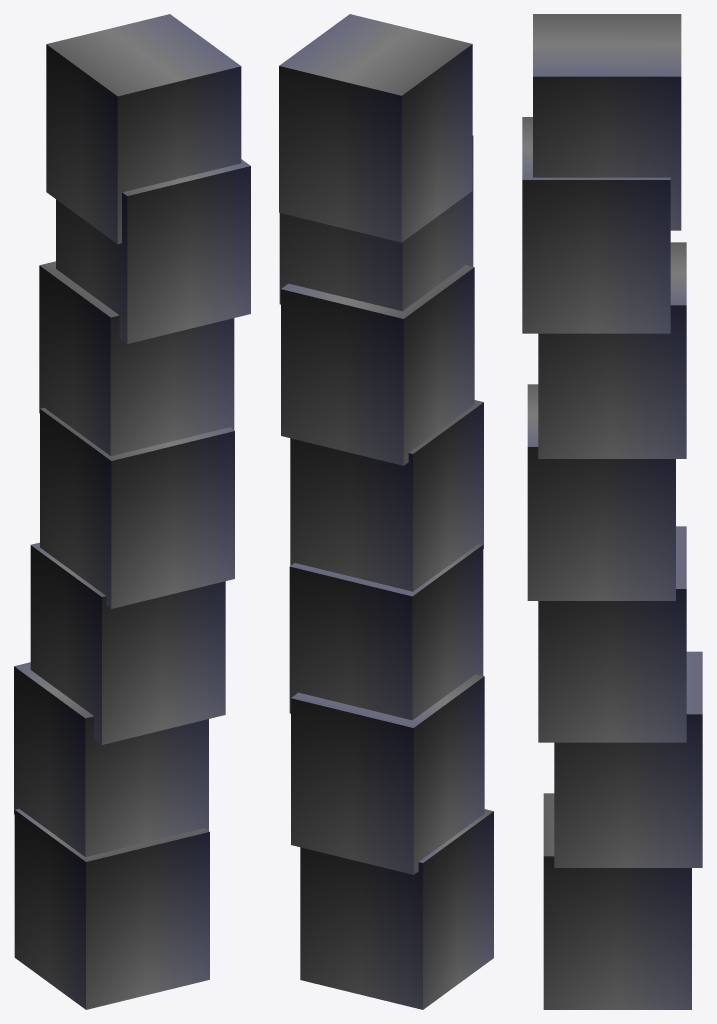
File: BuildingBase.fbx
3 views of the same model, side by side, from view 1: azimuth 30°, elevation 25°; view 2: azimuth 150°, elevation 25°; view 3: azimuth 270°, elevation 25° (orthographic). The views are drawn at different scales.
Parts seen in each view (by area): view 1: cube, cube_4, cube_3, cube_6, cube_1, cube_2, cube_5; view 2: cube, cube_2, cube_5, cube_4, cube_3, cube_6, cube_1; view 3: cube, cube_1, cube_3, cube_4, cube_6, cube_2, cube_5.
Part boxes in pixels (x1,y1,x2,y2): cube: (46,14,241,244); cube_4: (14,809,209,1009); cube_3: (40,407,234,608); cube_6: (30,542,225,744); cube_1: (56,159,250,343); cube_2: (39,261,234,455); cube_5: (14,662,208,856); cube: (279,14,472,242); cube_2: (281,265,474,465); cube_5: (291,674,484,874); cube_4: (300,809,493,1009); cube_3: (290,400,483,591); cube_6: (289,543,483,720); cube_1: (279,135,473,311); cube: (533,14,681,230); cube_1: (522,117,670,333); cube_3: (527,384,675,600); cube_4: (543,793,691,1009); cube_6: (538,526,686,742); cube_2: (538,242,686,458); cube_5: (554,651,702,867).
Bounding box in the file's own units: 219 × 1231 × 212.
Materials: 1 (1 with a texture image).
